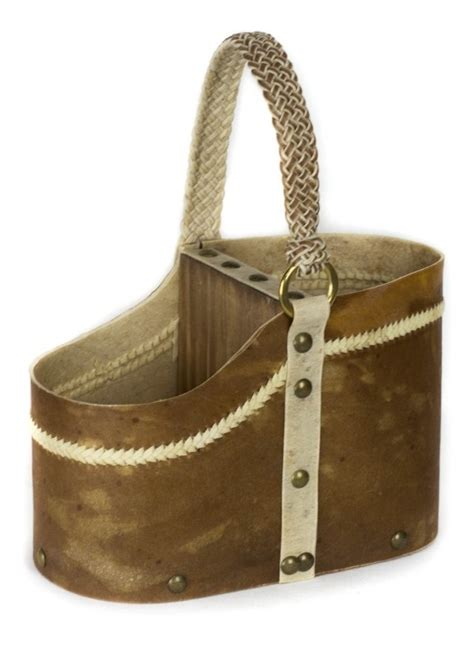cuero: (27, 30, 440, 606)
